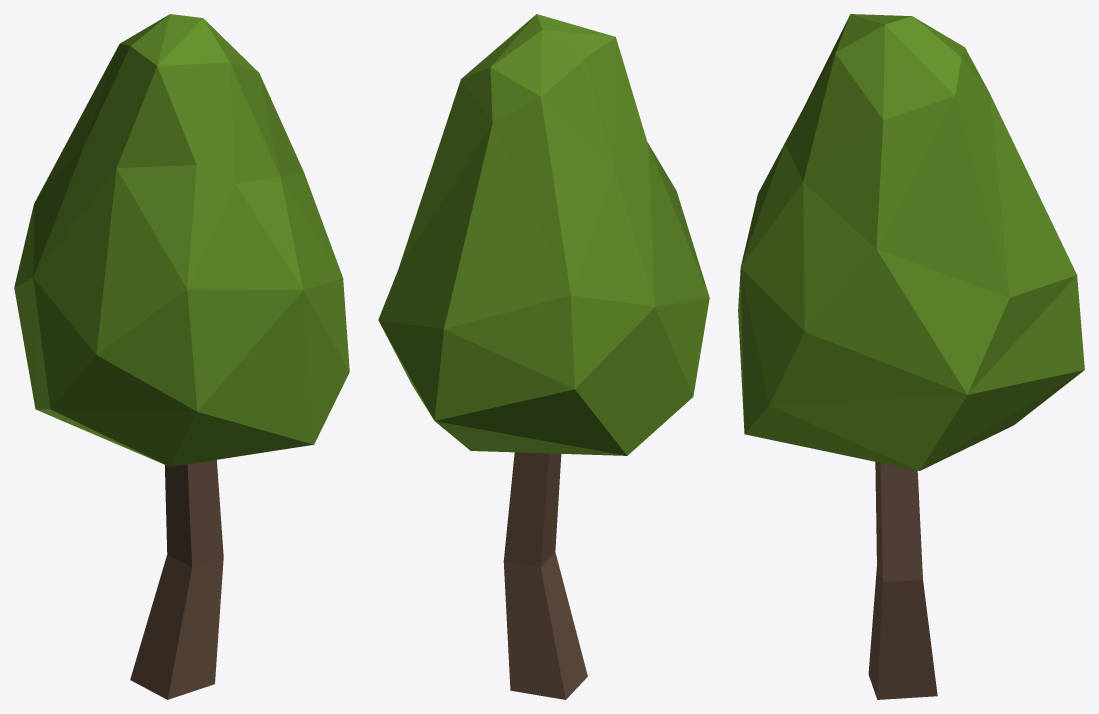
File: tree_8.fbx
The picture shows the model from 3 angles, left to right: view 1: azimuth 30°, elevation 25°; view 2: azimuth 150°, elevation 25°; view 3: azimuth 270°, elevation 25°; orthographic projection. The views are drawn at different scales.
Parts seen in each view (by area): view 1: tree_8; view 2: tree_8; view 3: tree_8.
Part boxes in pixels (bbox=[...]): tree_8: bbox=[14, 14, 349, 699]; tree_8: bbox=[378, 14, 709, 699]; tree_8: bbox=[738, 14, 1084, 699].
Bounding box in the file's own units: 308 × 712 × 333.
